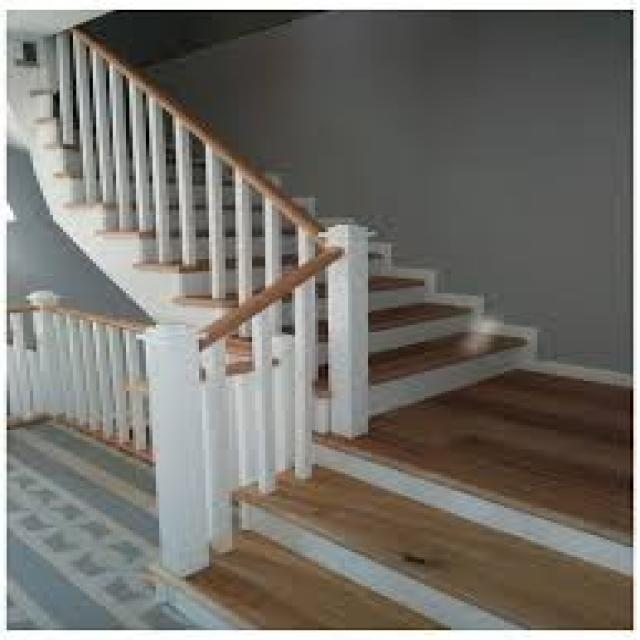stair: (1, 76, 538, 396), (97, 438, 640, 640)
